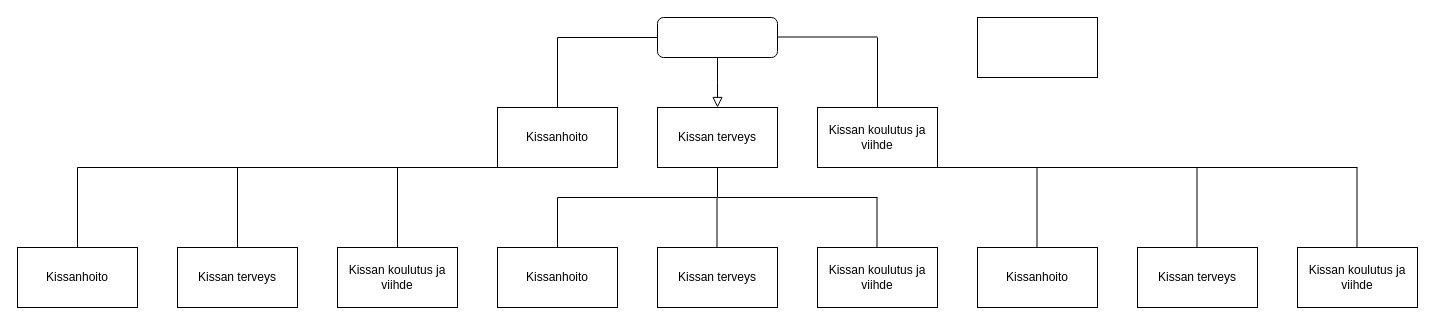
Some shapes in this 1435 by 325 pixel diagram are drawn without their labels. Here are the shapes that lost their labels. From the top down, the centre of each, then its label:
At (x=717, y=37): "Kissanystävien Tietopankki".
At (x=1037, y=47): "Instagram".
